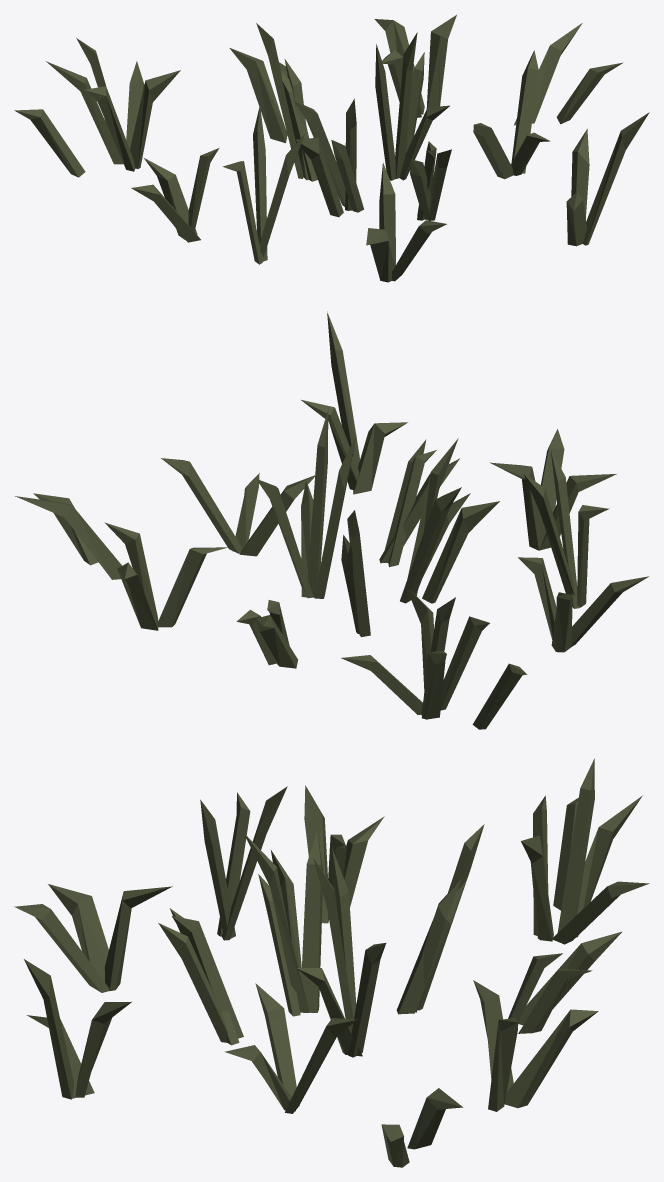
The model's file is SM_Generic_Grass_Patch_03_488.obj.
The picture shows the model from 3 angles, top to bottom: view 1: azimuth 30°, elevation 25°; view 2: azimuth 150°, elevation 25°; view 3: azimuth 270°, elevation 25°; orthographic projection. The views are drawn at different scales.
Visible parts, largest first — view 1: SM_Generic_Grass_Patch_03_0; view 2: SM_Generic_Grass_Patch_03_0; view 3: SM_Generic_Grass_Patch_03_0.
Part boxes in pixels (x1=…): SM_Generic_Grass_Patch_03_0: x1=14, y1=15, x2=649, y2=282; SM_Generic_Grass_Patch_03_0: x1=15, y1=311, x2=648, y2=729; SM_Generic_Grass_Patch_03_0: x1=14, y1=758, x2=649, y2=1167.
Bounding box in the file's own units: 3.27 × 0.9256 × 2.72.
1 material, 1 textured.
